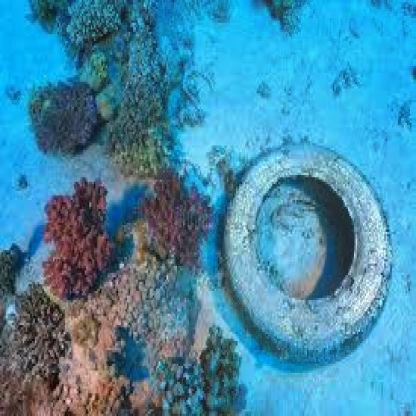tire: (230, 123, 398, 375)
